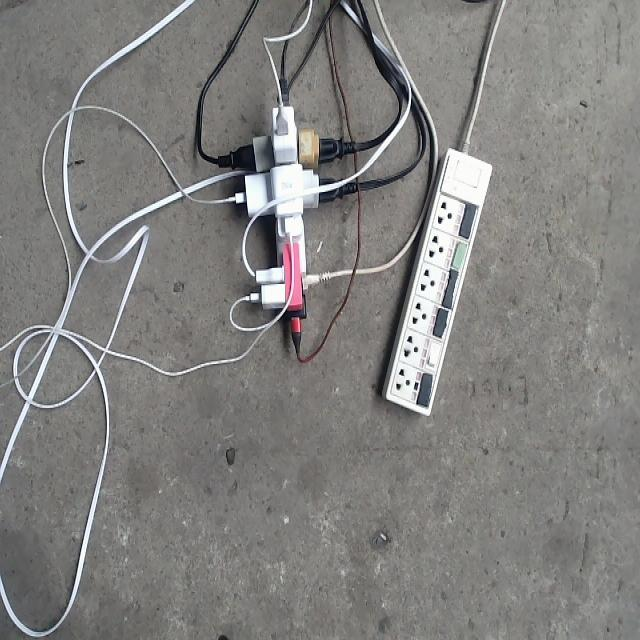-: (226, 81, 337, 351)
